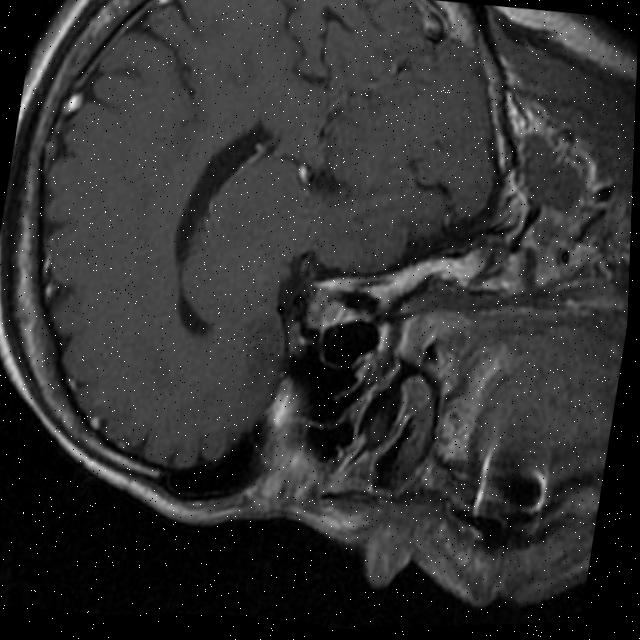Pituitary: (303, 284, 372, 335)
